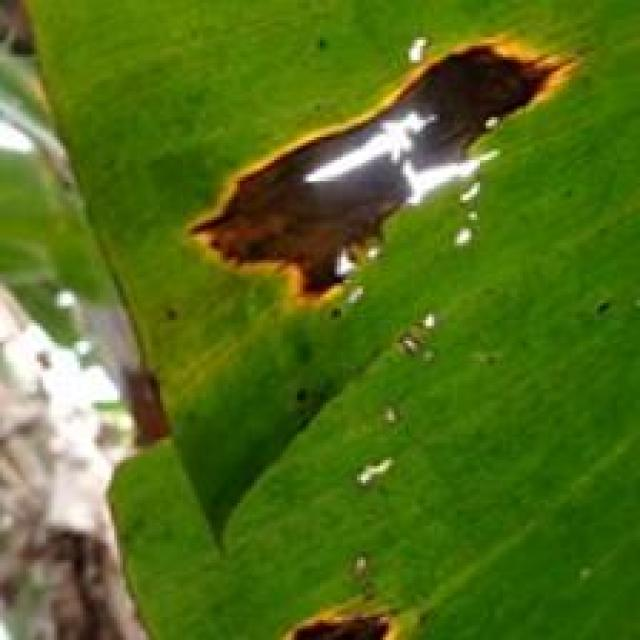Bacterial_spot: (169, 34, 584, 303), (257, 574, 426, 640), (102, 354, 188, 472), (364, 302, 464, 369), (318, 446, 407, 510)
